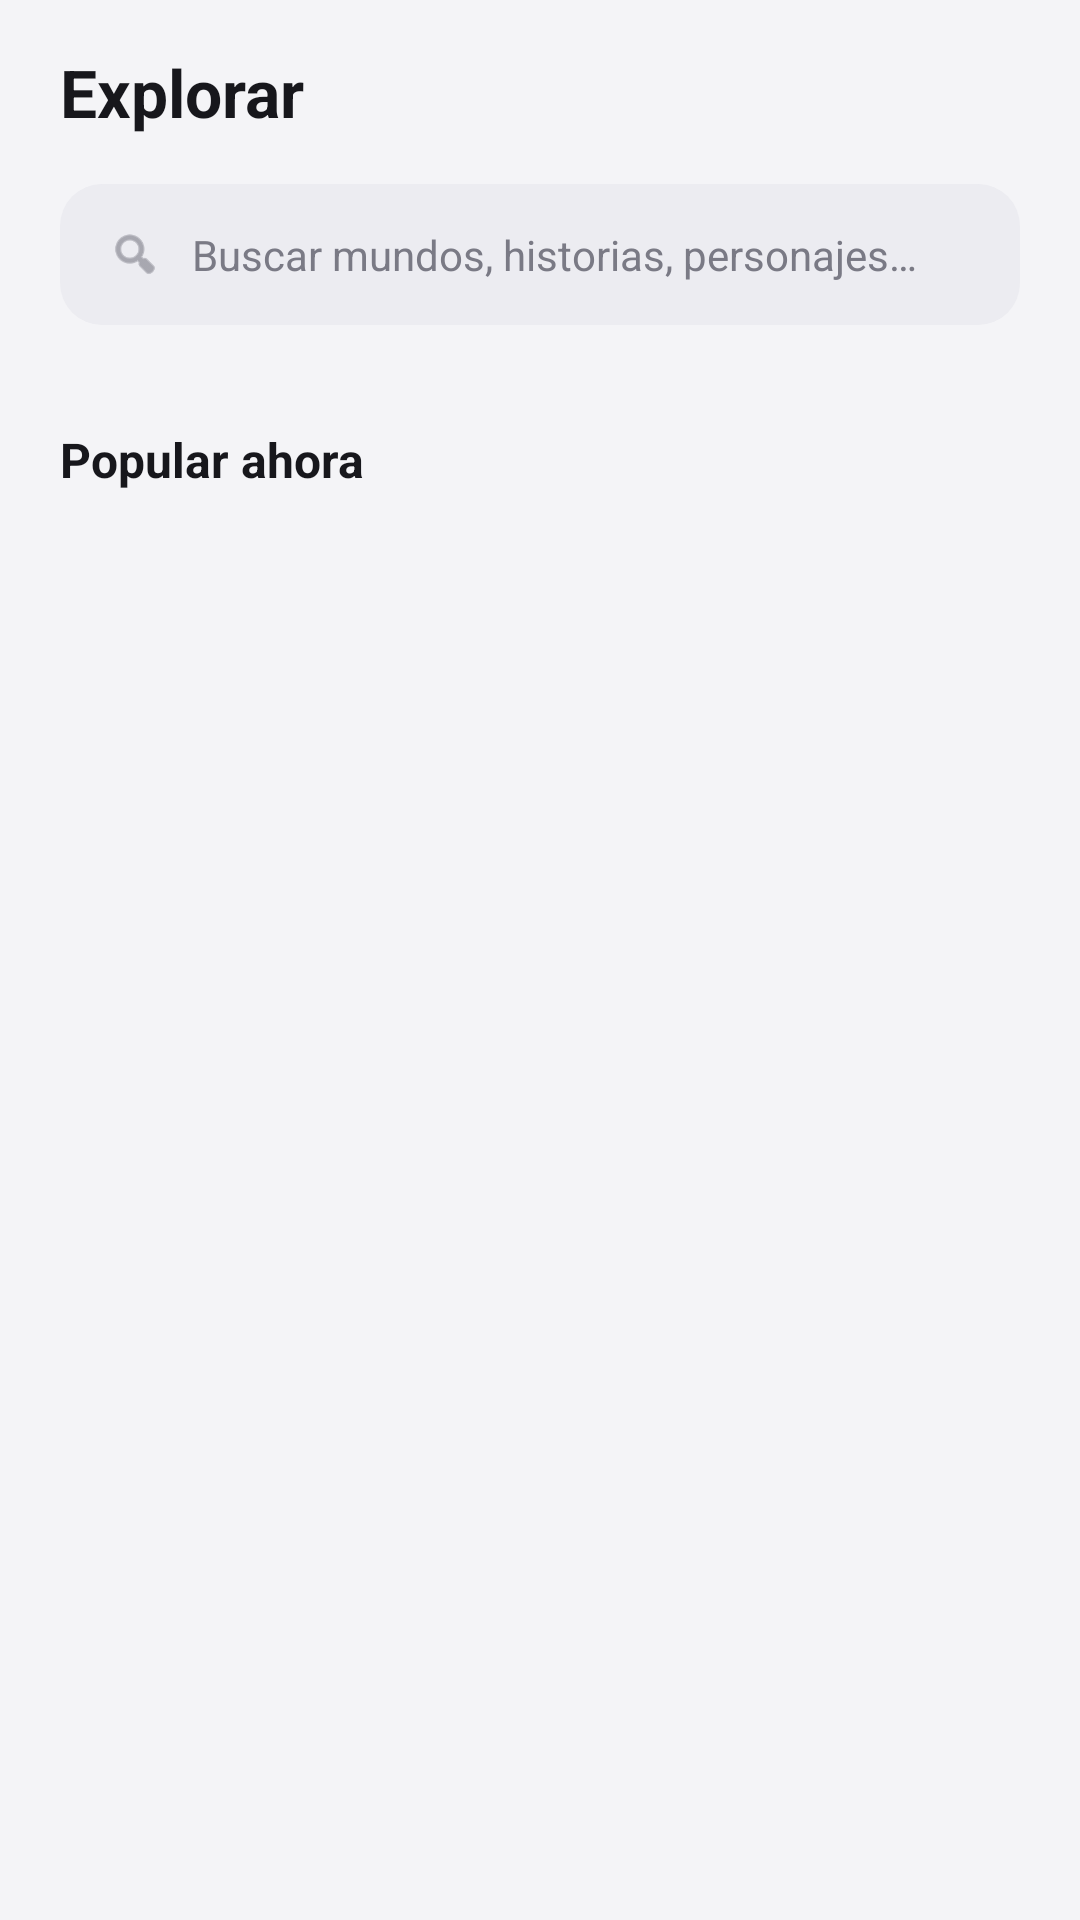

Locate icon controls on the screen. Image size 1080px×1920px, boxes as rect(x1, y1, x2, y2).
search: rect(115, 234, 155, 274)
